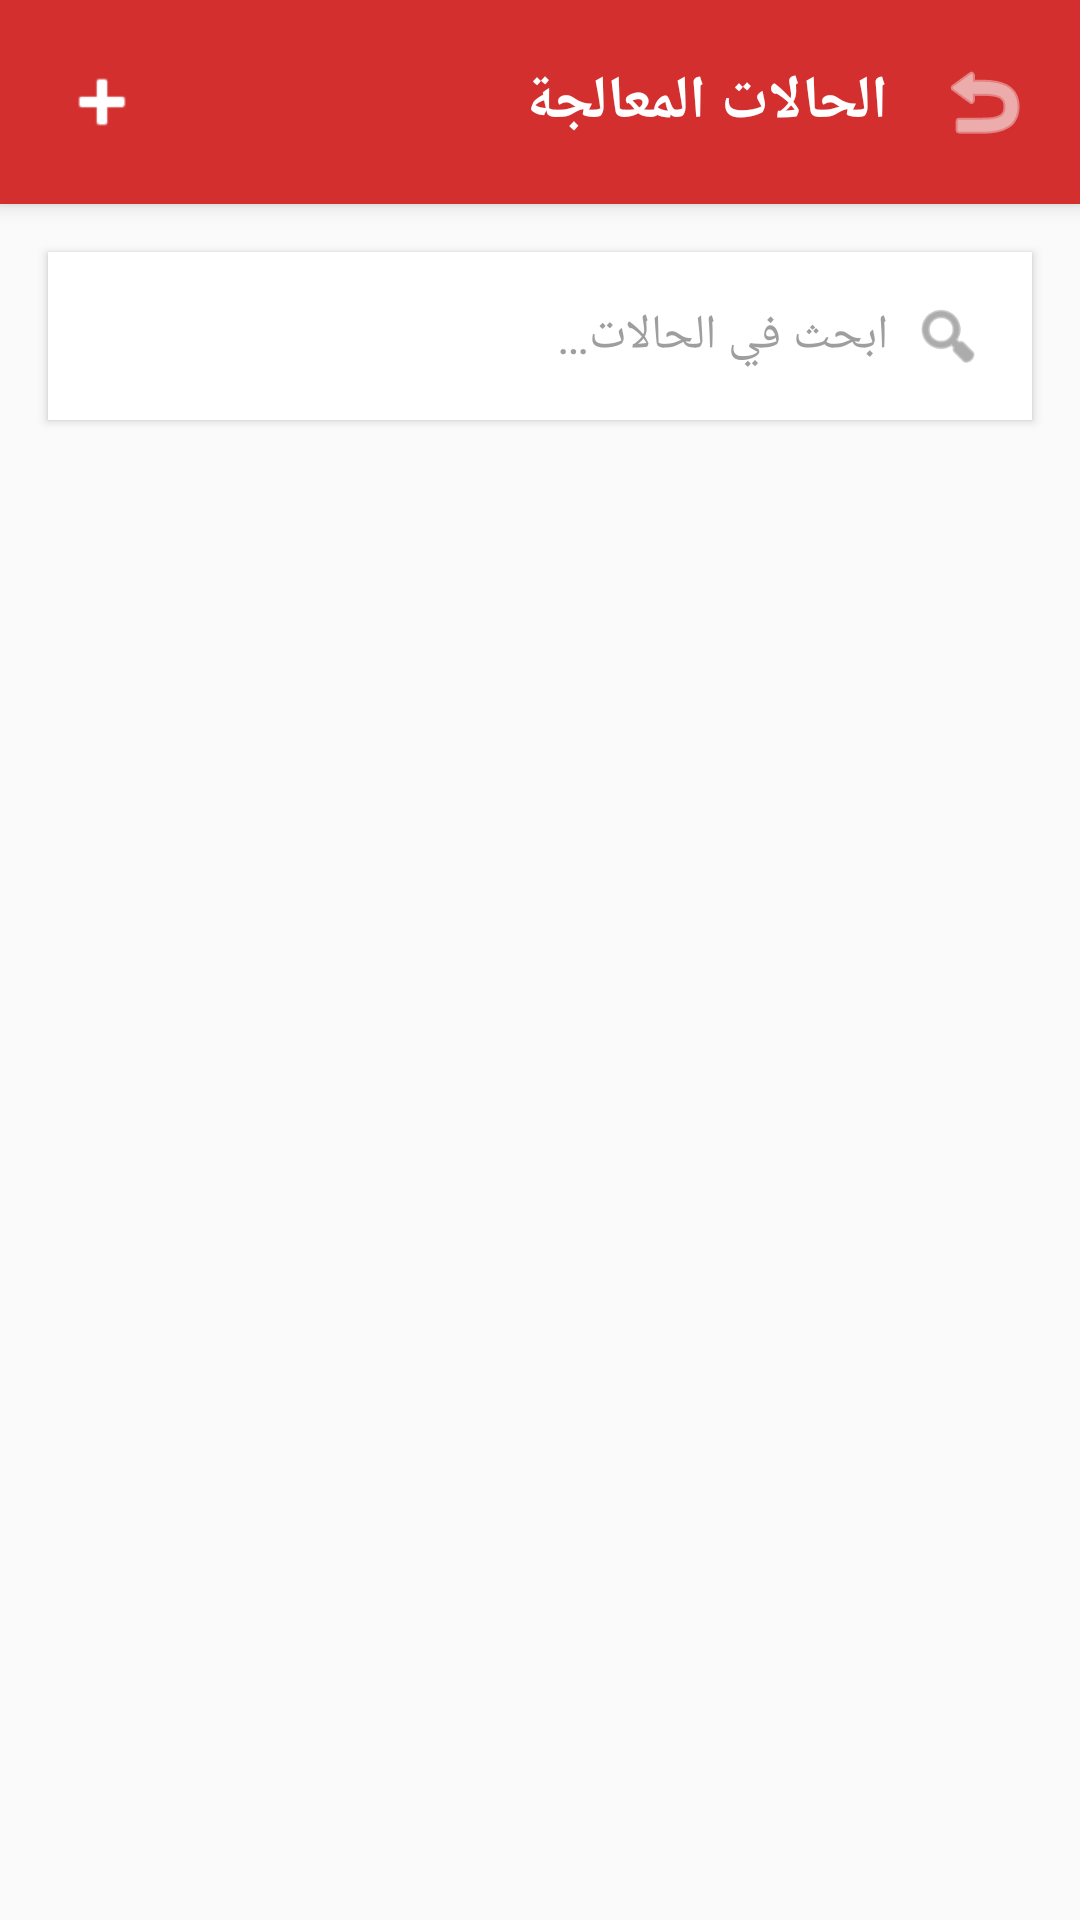

Named icons in this screenshot (1080×1920) and their centers, point (x, y):
search: point (948, 336)
إضافة: point (102, 102)
رجوع: point (985, 102)
